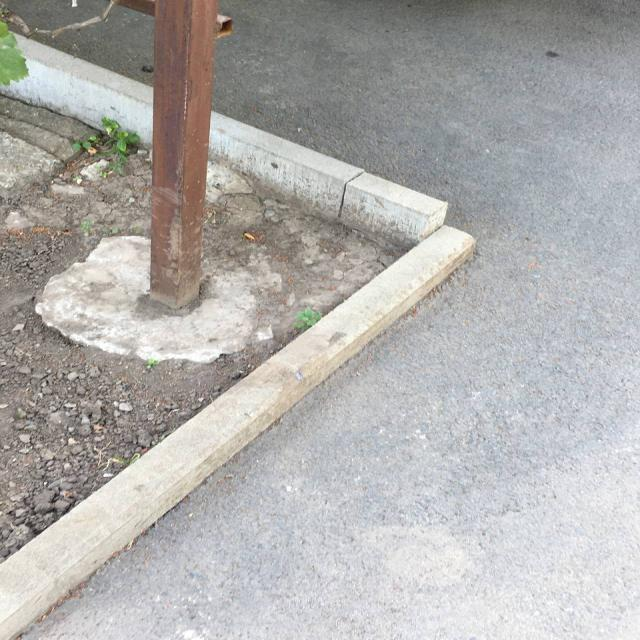bump: (209, 112, 446, 246), (308, 236, 460, 370), (188, 339, 355, 459), (76, 421, 210, 558)
